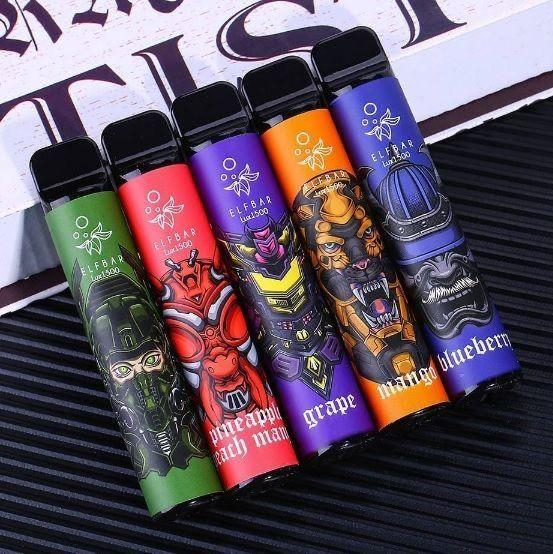Vape: (312, 26, 518, 397), (242, 56, 447, 427), (172, 81, 374, 456), (102, 110, 297, 489), (30, 137, 222, 513)
